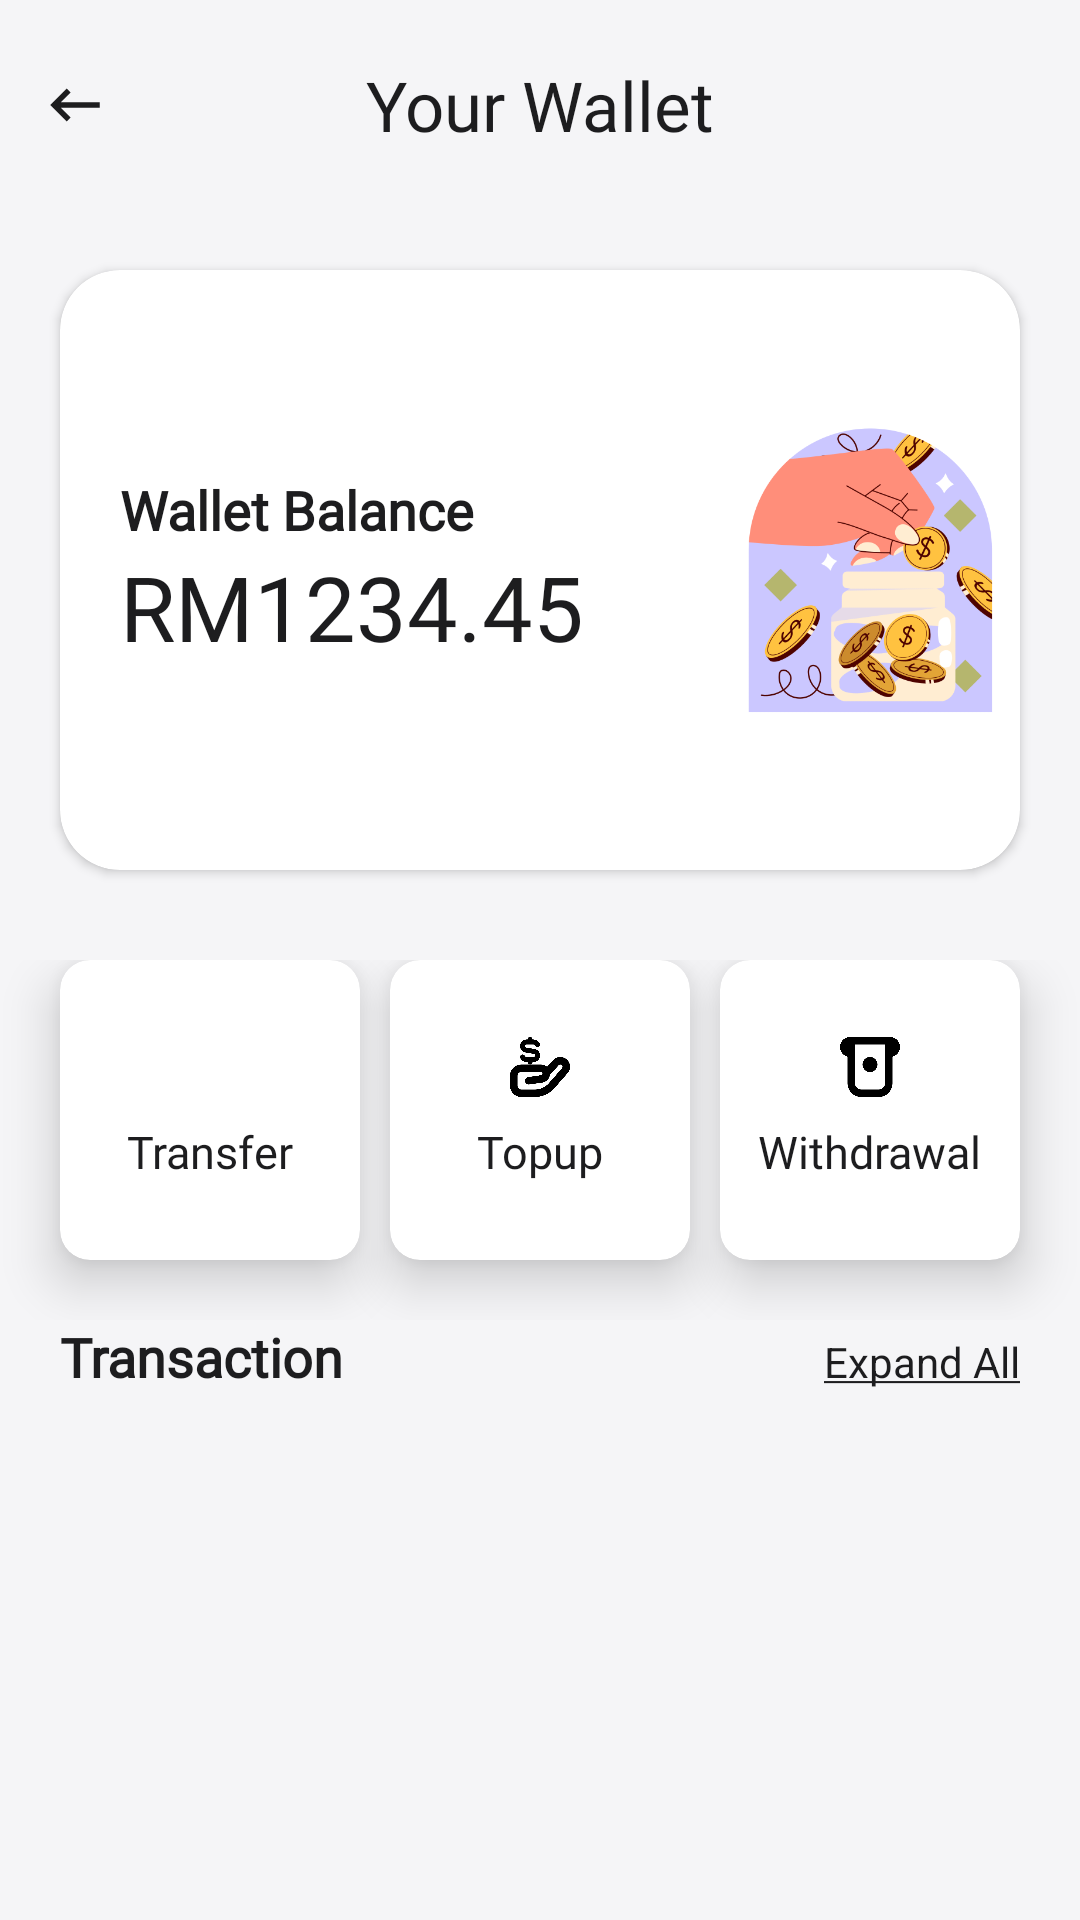

Named icons in this screenshot (1080w x 1920h) and their centers, (x,y):
coin: (871,570)
keyboard backspace: (75,105)
